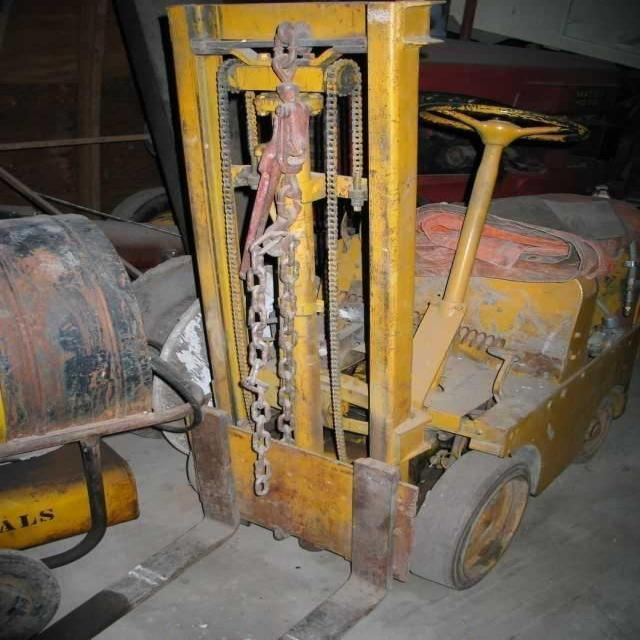forklift: (164, 0, 640, 599)
